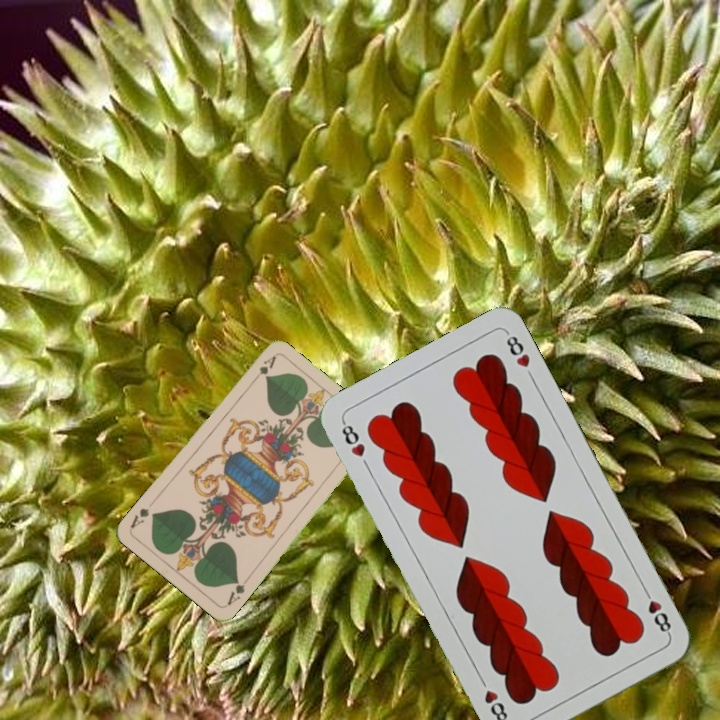GA: (248, 352, 279, 385), (223, 573, 251, 608)
H8: (639, 584, 674, 639), (337, 417, 368, 460)
